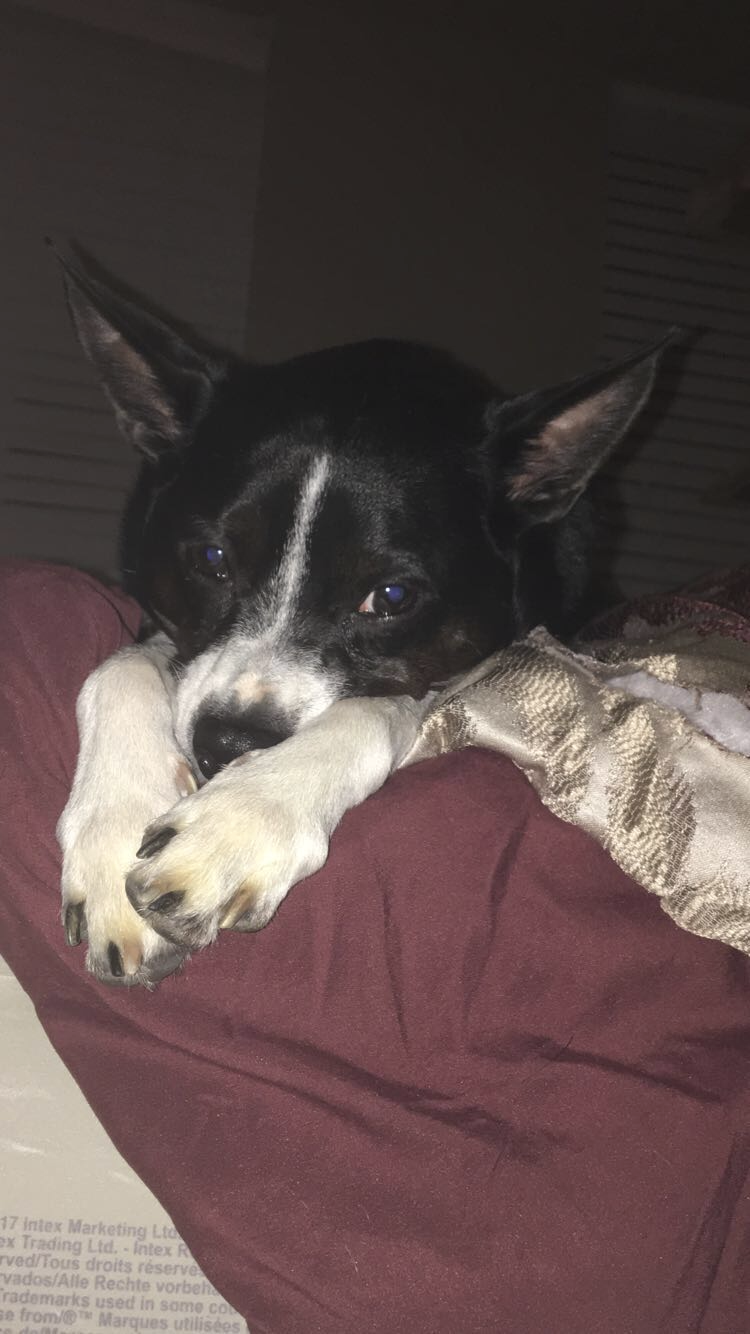Harley: (39, 234, 722, 982)
